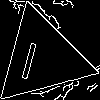I: (17, 33, 43, 81)
